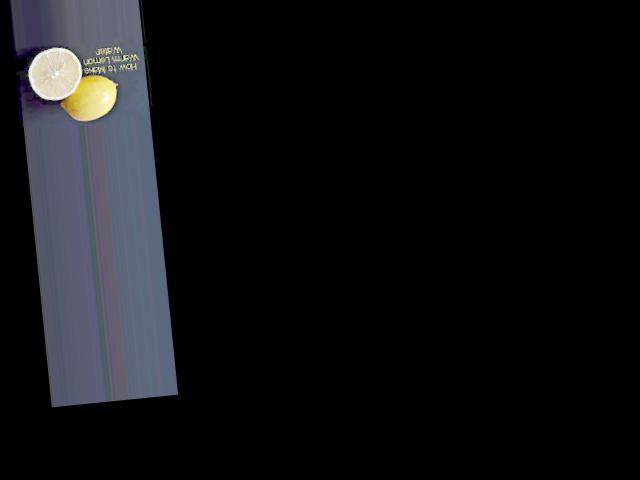lemon: (60, 76, 123, 124)
